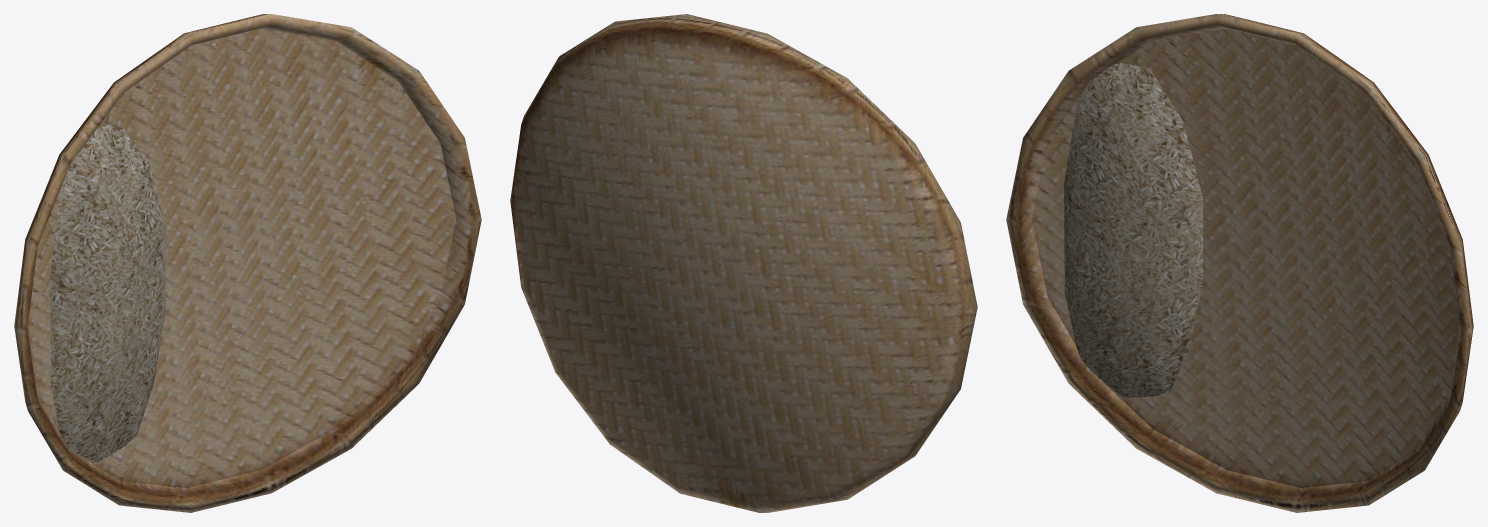
The model's file is nampan.gltf.
The picture shows the model from 3 angles, left to right: view 1: azimuth 30°, elevation 25°; view 2: azimuth 150°, elevation 25°; view 3: azimuth 330°, elevation 25°; orthographic projection.
Visible parts, largest first — view 1: Napan_Beras, Rice_01; view 2: Napan_Beras; view 3: Napan_Beras, Rice_01.
Part boxes in pixels (x1,y1,x2,y2): Napan_Beras: [14, 14, 481, 512]; Rice_01: [50, 122, 165, 462]; Napan_Beras: [510, 14, 977, 512]; Napan_Beras: [1006, 14, 1473, 512]; Rice_01: [1064, 62, 1202, 397].
Bounding box in the file's own units: 96.44 × 94.97 × 10.5.
2 materials, 2 textured.
